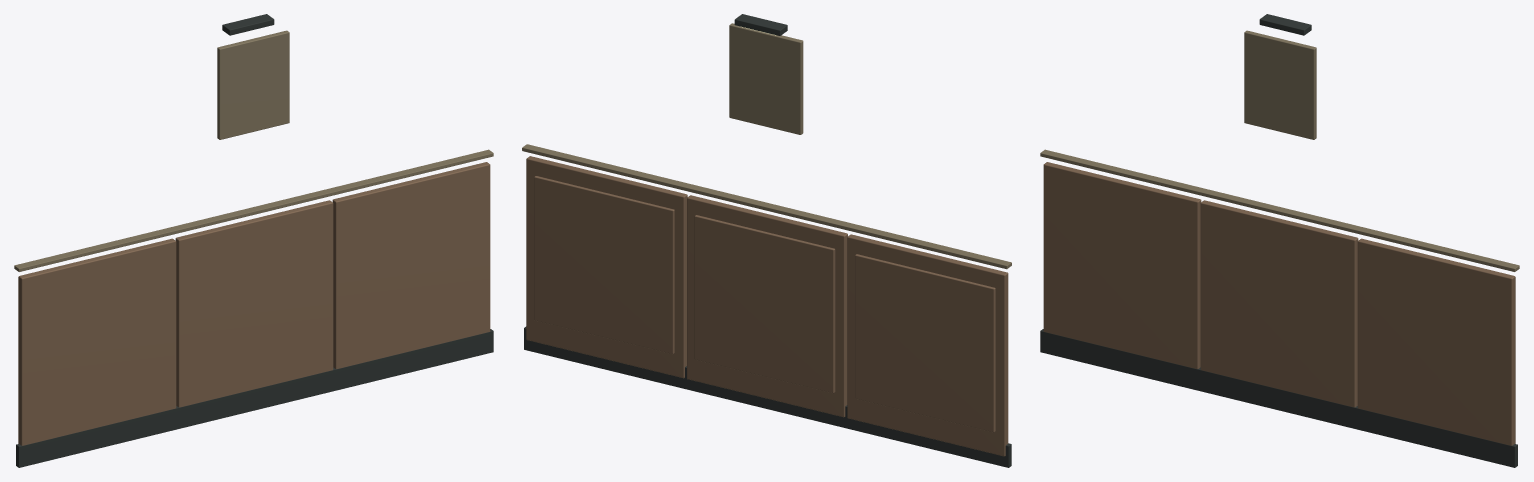
File: landing-return.glb
The picture shows the model from 3 angles, left to right: view 1: azimuth 30°, elevation 25°; view 2: azimuth 150°, elevation 25°; view 3: azimuth 330°, elevation 25°; orthographic projection. The views are drawn at different scales.
Visible parts, largest first — view 1: Entry | smoked walnut, Entry | blackened steel, Entry | patinated bronze; view 2: Entry | smoked walnut, Entry | patinated bronze, Entry | blackened steel; view 3: Entry | smoked walnut, Entry | blackened steel, Entry | patinated bronze.
Boxes of the visible parts, left/top/right/bottom form: Entry | smoked walnut: left=18, top=162, right=490, bottom=445; Entry | blackened steel: left=16, top=14, right=493, bottom=467; Entry | patinated bronze: left=14, top=30, right=493, bottom=271; Entry | smoked walnut: left=526, top=156, right=1008, bottom=456; Entry | patinated bronze: left=522, top=23, right=1011, bottom=269; Entry | blackened steel: left=524, top=14, right=1011, bottom=467; Entry | smoked walnut: left=1043, top=162, right=1515, bottom=445; Entry | blackened steel: left=1040, top=14, right=1517, bottom=467; Entry | patinated bronze: left=1040, top=30, right=1519, bottom=271.
Bounding box in the file's own units: 2.54 × 1.96 × 0.1095.
